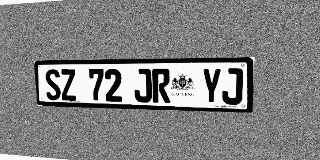2: (104, 69, 122, 102)
7: (88, 69, 105, 101)
J: (222, 68, 243, 105), (134, 69, 152, 103)
R: (152, 69, 170, 103)
S: (44, 69, 61, 100)
Y: (201, 68, 222, 104)
Z: (60, 69, 77, 101)
